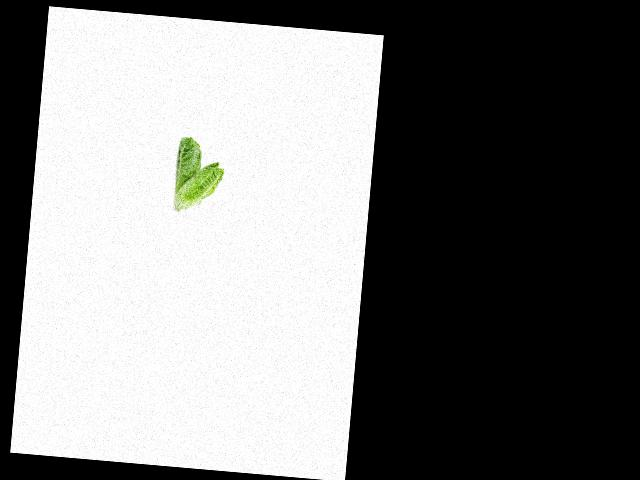lettuce: (169, 131, 205, 197)
